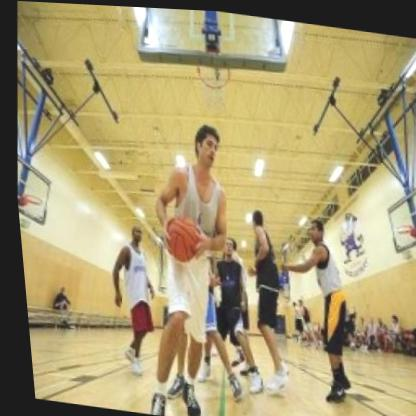basketball: (153, 208, 202, 268)
